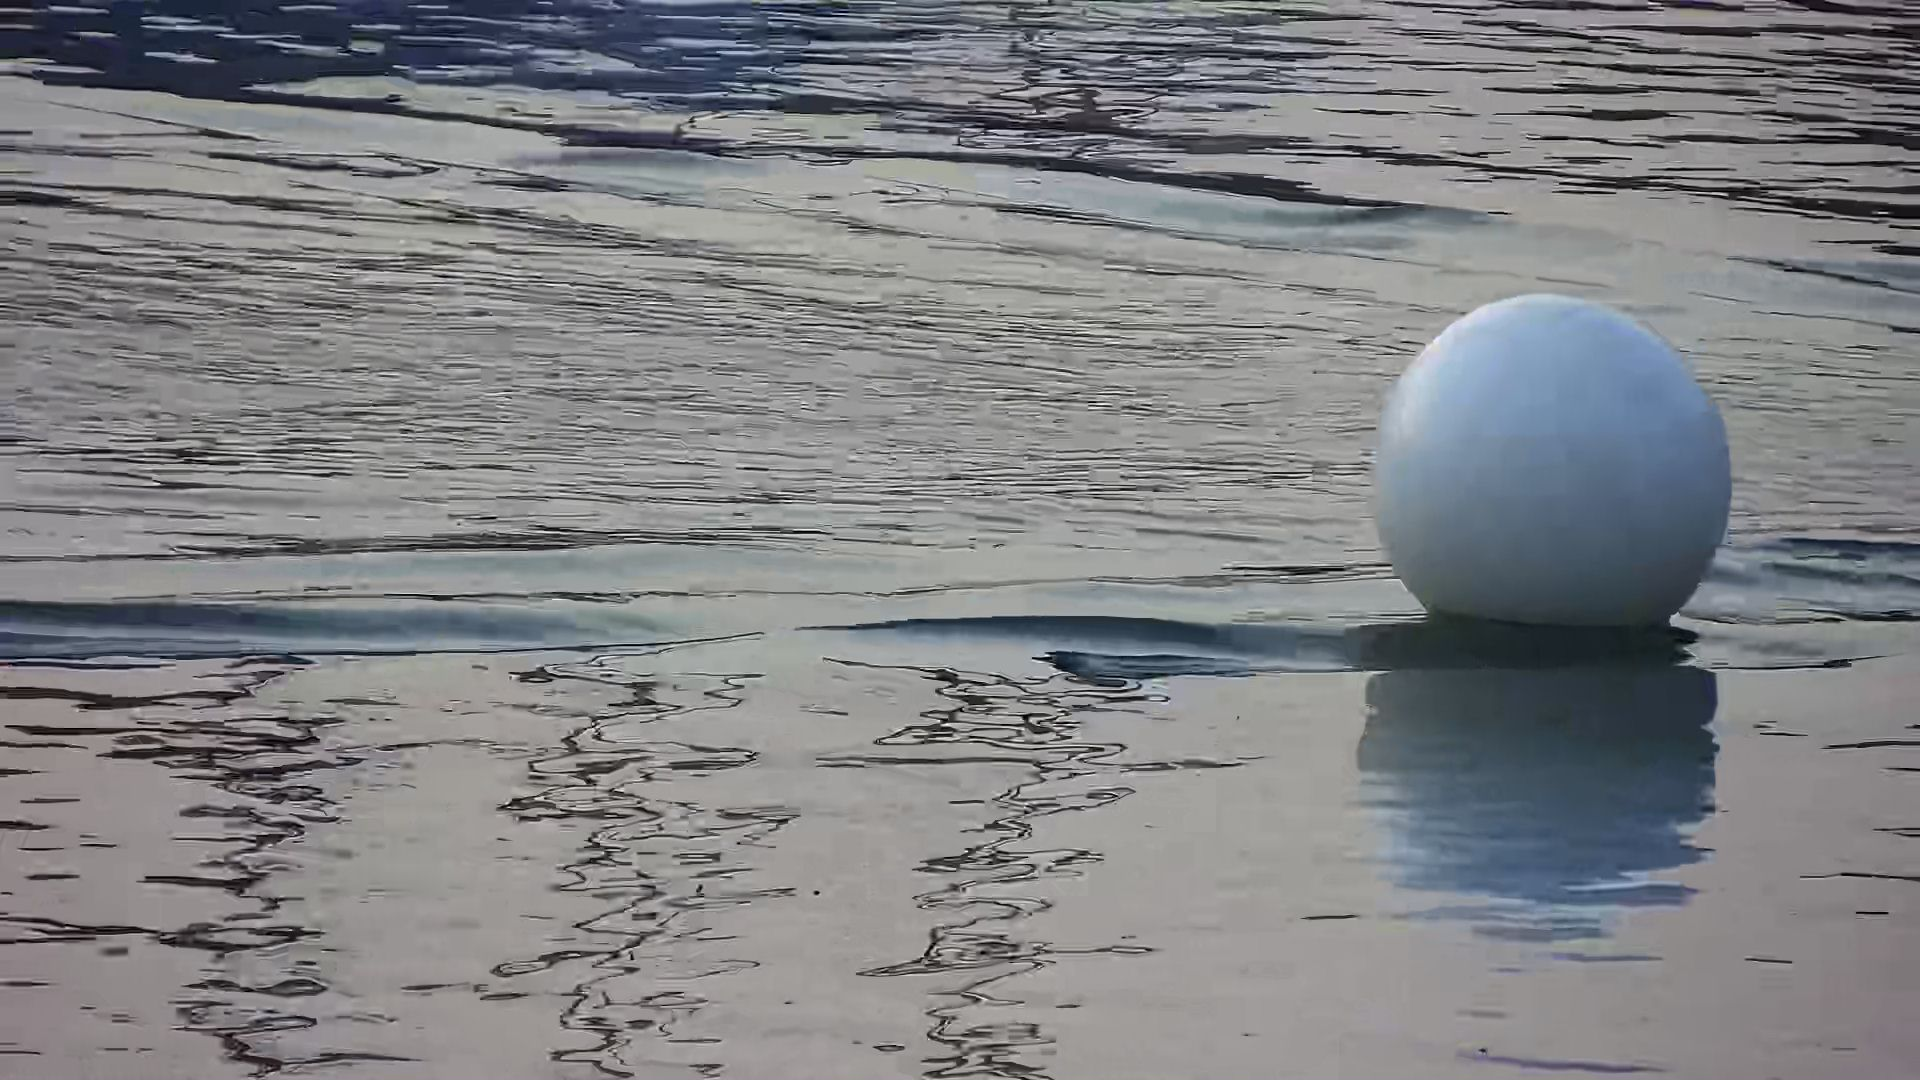ball: (1358, 282, 1729, 626)
